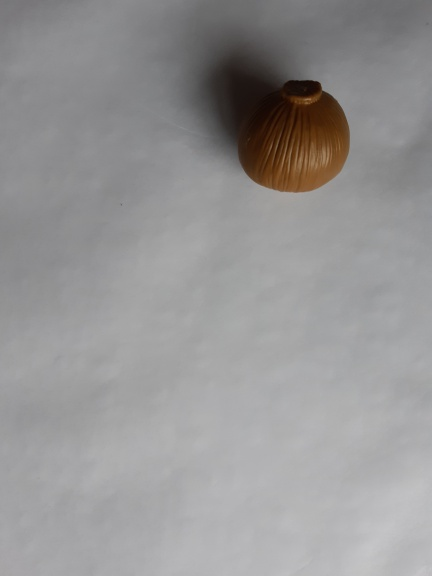onion: (230, 75, 359, 201)
